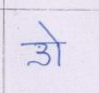o_matra: (49, 30, 64, 66)
